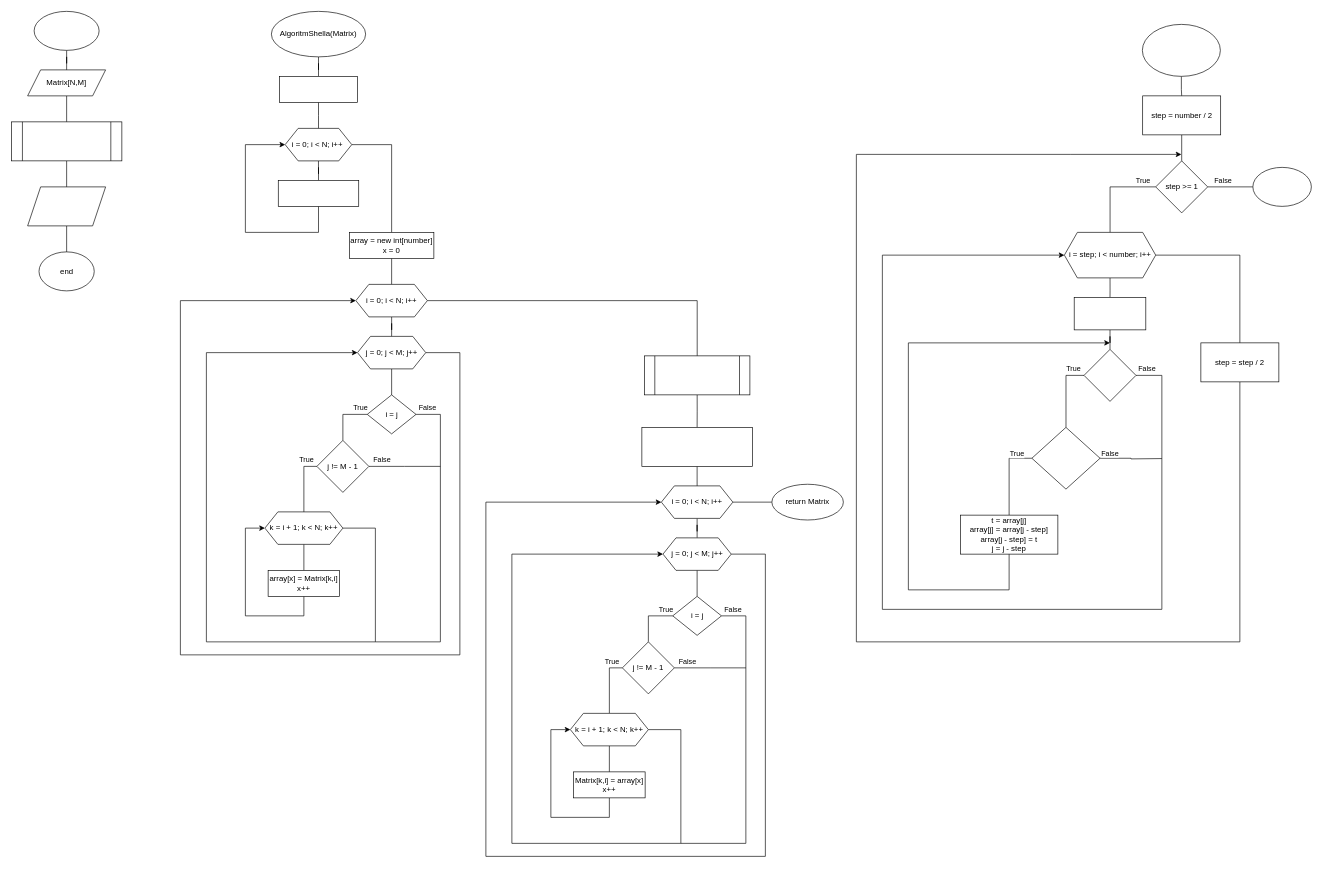
The diagram is 1323 pixels wide and 873 high, and some of its shapes have lost their labels. Here are the shapes that lost their labels. From the top down, the box of each, then its label:
(33, 11, 99, 50): start
(1142, 24, 1220, 76): ShellSort(array)
(279, 76, 358, 102): number = 0
(11, 121, 122, 161): Matrix = AlgoritmShella(Matrix)
(27, 186, 106, 226): Matrix
(278, 180, 359, 206): number = number + i
(1252, 167, 1311, 206): return array
(1074, 297, 1146, 330): j = i
(644, 355, 750, 395): array = Shellsort(array)
(1083, 349, 1136, 401): j >= step
(641, 427, 752, 466): x = 0
(1031, 427, 1100, 489): array[j - step] > array[j]
